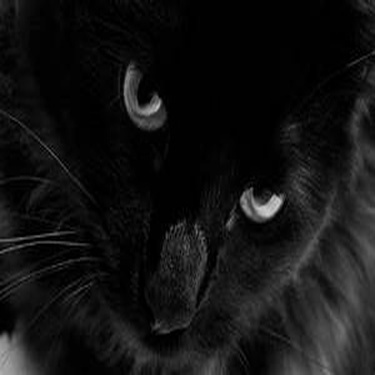cat: (10, 14, 371, 368)
